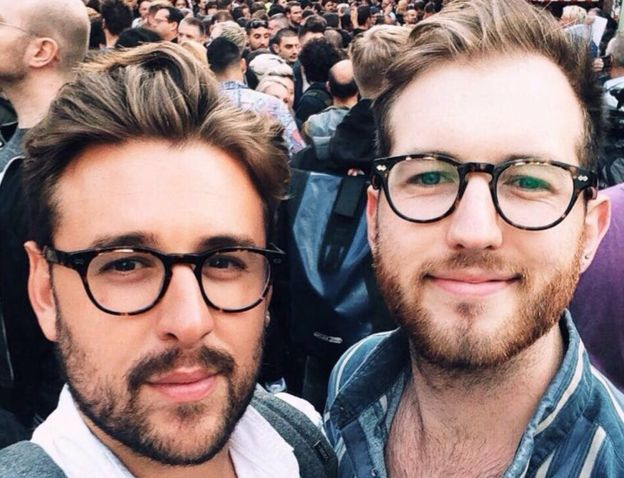bare: (55, 293, 267, 463), (370, 199, 574, 364)
